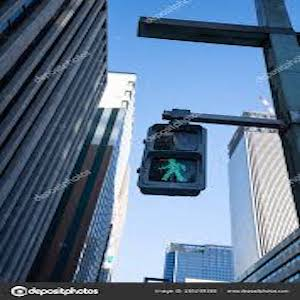green: (157, 154, 188, 184)
